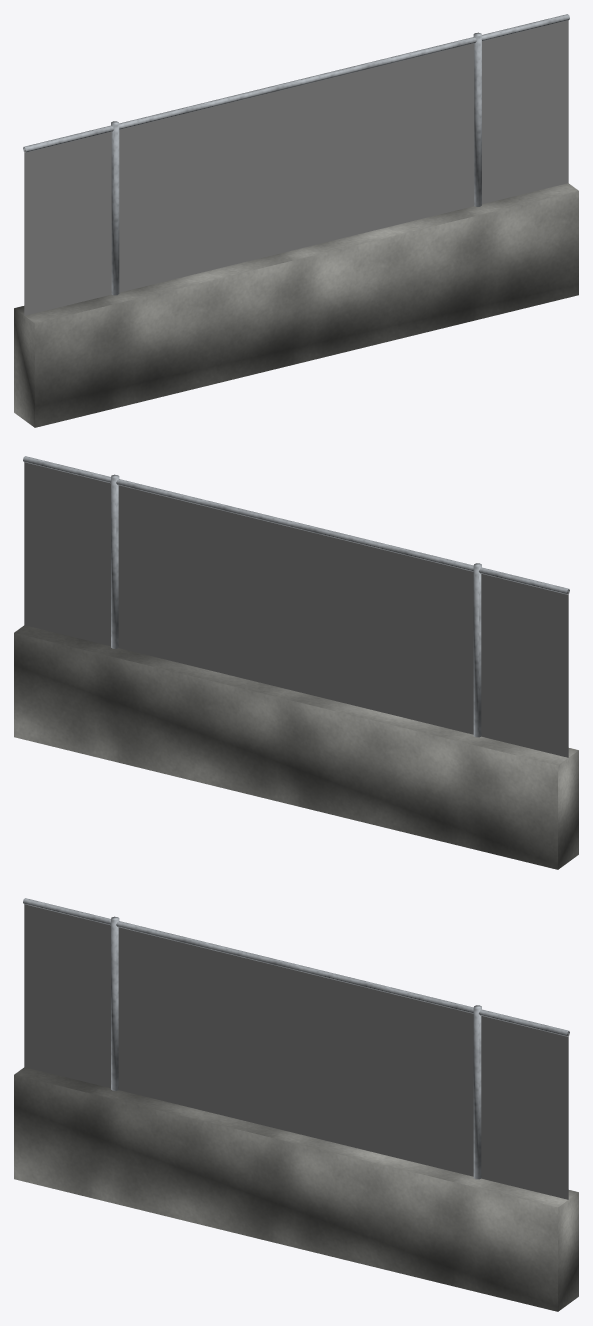
The model's file is pit_wall_plain_6m.glb.
3 views of the same model, one above another, from view 1: azimuth 30°, elevation 25°; view 2: azimuth 150°, elevation 25°; view 3: azimuth 330°, elevation 25° (orthographic).
Parts seen in each view (by area): view 1: pit_wall_plain_6m; view 2: pit_wall_plain_6m; view 3: pit_wall_plain_6m.
Part boxes in pixels (box(x1,y1,x2,y2)): pit_wall_plain_6m: box(14, 14, 578, 427); pit_wall_plain_6m: box(14, 456, 578, 869); pit_wall_plain_6m: box(14, 898, 578, 1311).
Bounding box in the file's own units: 6 × 2.9 × 0.4.
Materials: 3 (3 with a texture image).
